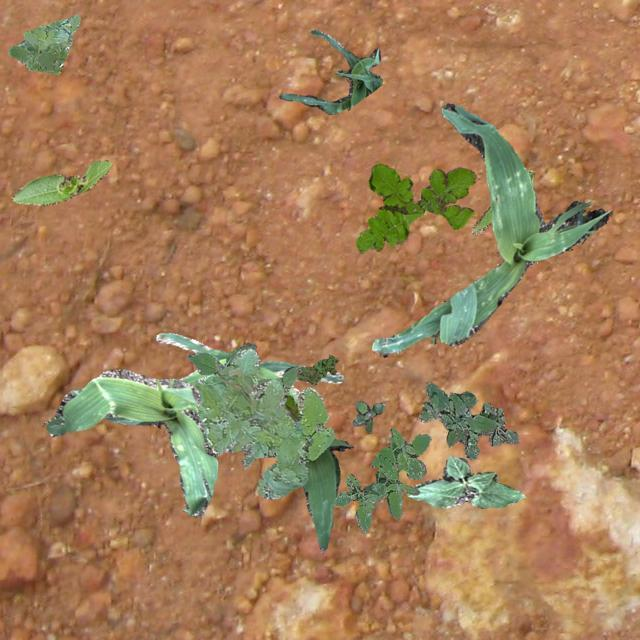crop: (372, 102, 608, 356), (45, 368, 216, 516), (156, 332, 342, 402), (282, 394, 352, 550), (278, 28, 381, 114), (406, 453, 524, 508), (11, 160, 110, 204), (471, 168, 534, 234)
weed: (190, 348, 334, 498), (186, 342, 300, 468), (356, 162, 476, 252), (332, 428, 430, 532), (418, 382, 518, 458), (6, 13, 78, 74), (296, 354, 338, 384), (352, 400, 384, 432), (284, 394, 298, 418)
